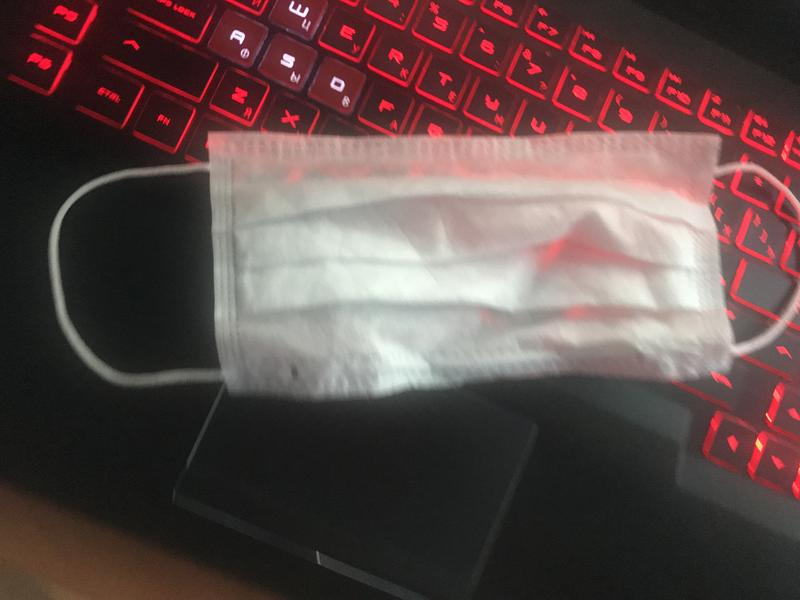medical_mask: (48, 132, 800, 388)
